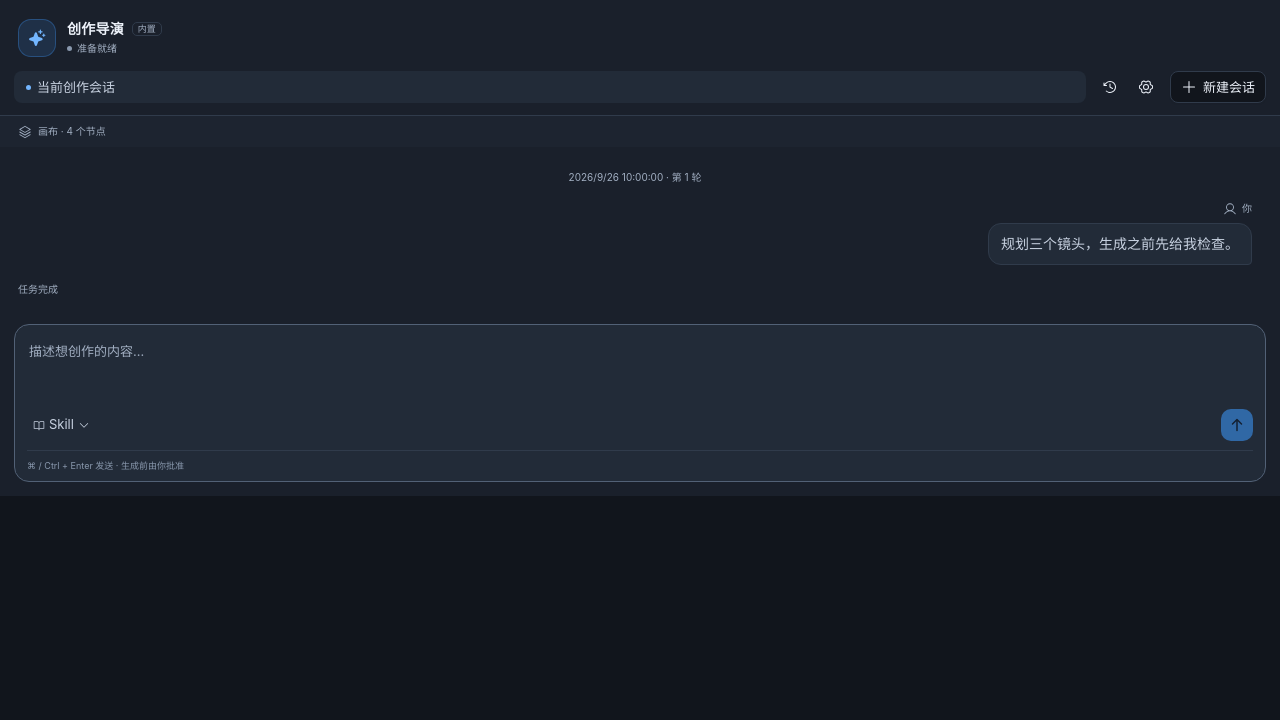
Test: AgentChatPanel › prefers a terminal Run list entry at the same timestamp and retains its history while releasing the send slot
The image size is (1280, 720).
Step 1. Type "继续下一次创作" into the text box named "本次任务" → (640, 369), box [27,336,1253,402]
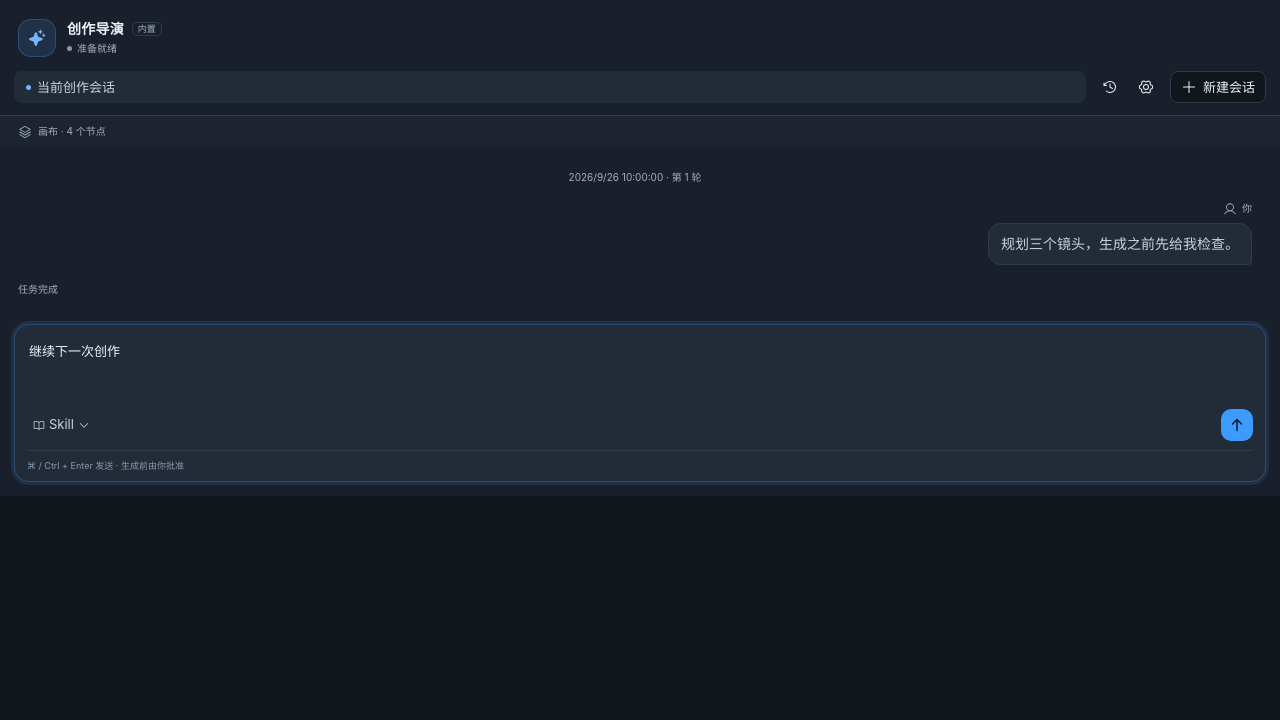
expect the element "你" shows "规划三个镜头，生成之前先给我检查。": met, box [1001,234,1239,251]
expect the button named "发送" is enabled: met, box [1221,409,1253,441]
